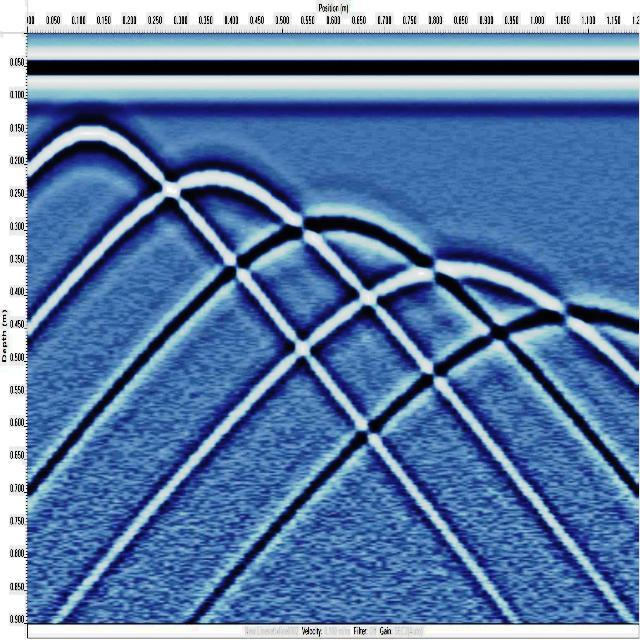hyperbola: (27, 100, 172, 196), (130, 159, 302, 226), (232, 205, 430, 262), (373, 246, 575, 300), (506, 278, 638, 326)
